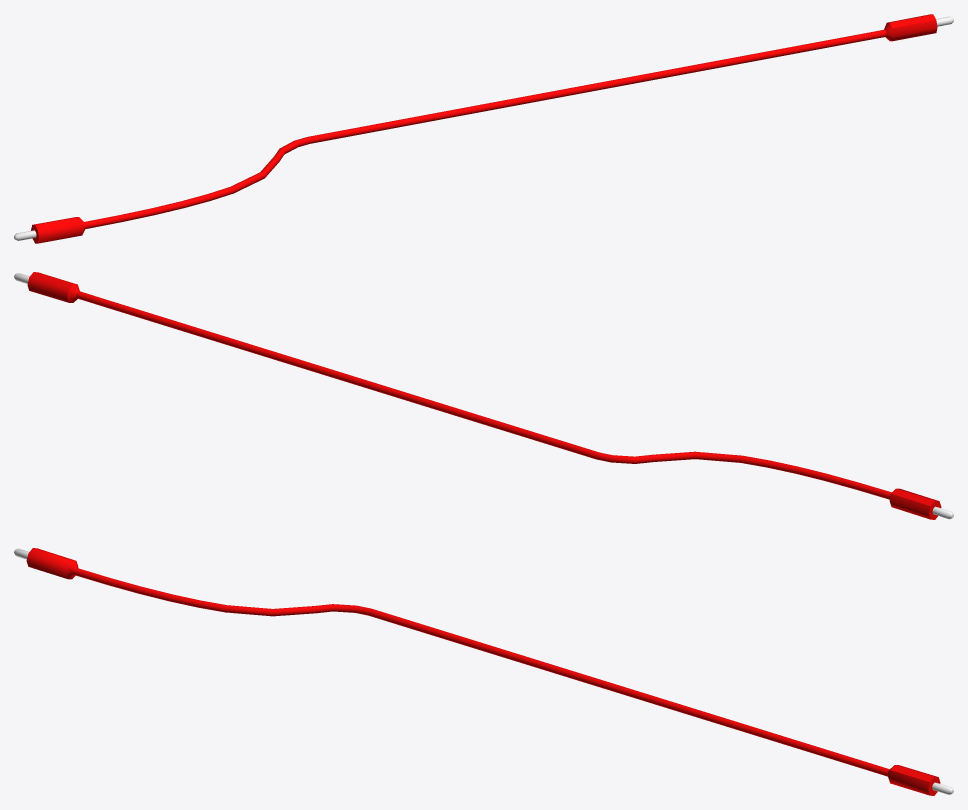
File: ElectroWires05_1.FBX
3 renders of one model, top to bottom at view 1: azimuth 30°, elevation 25°; view 2: azimuth 150°, elevation 25°; view 3: azimuth 330°, elevation 25°, orthographic. The views are drawn at different scales.
Parts seen in each view (by area): view 1: Object001; view 2: Object001; view 3: Object001.
Boxes of the visible parts, x1,y1,x2,y2 form: Object001: [14, 14, 953, 243]; Object001: [14, 272, 953, 519]; Object001: [14, 548, 953, 795].
Bounding box in the file's own units: 144 × 2.77 × 11.77.
